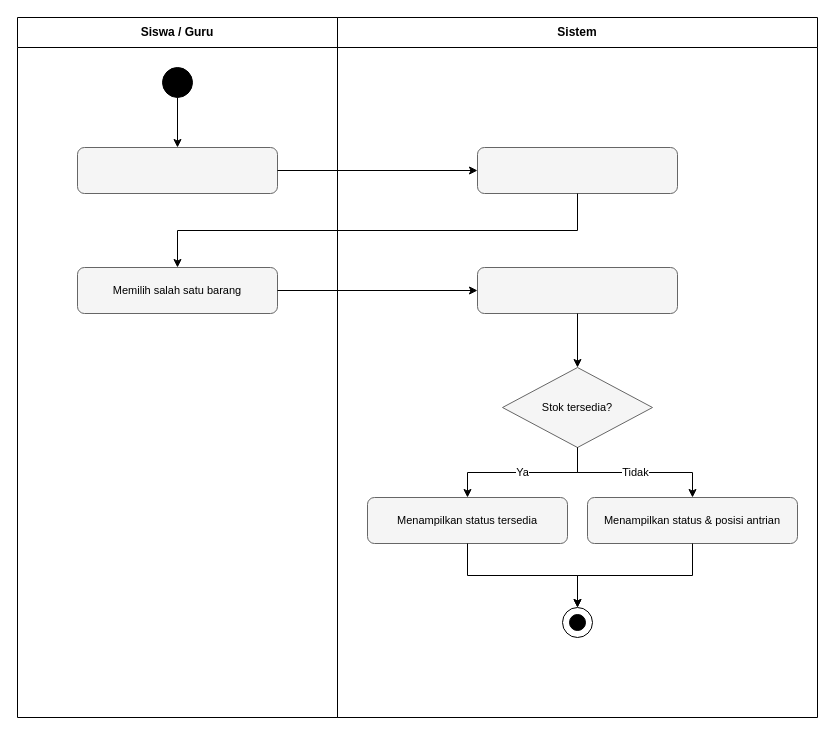
The diagram is 835 pixels wide and 735 high, and some of its shapes have lost their labels. Each missing label, with the centre of its shape:
Membuka menu Alat / Bahan Lab: point (177, 170)
Menampilkan daftar alat & bahan beserta stok: point (577, 170)
Menampilkan detail barang: point (577, 290)
